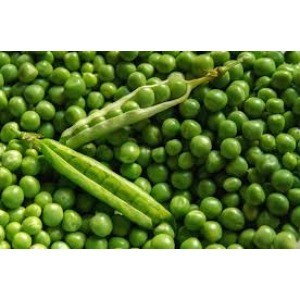green pea_brain food: (70, 81, 264, 198)
